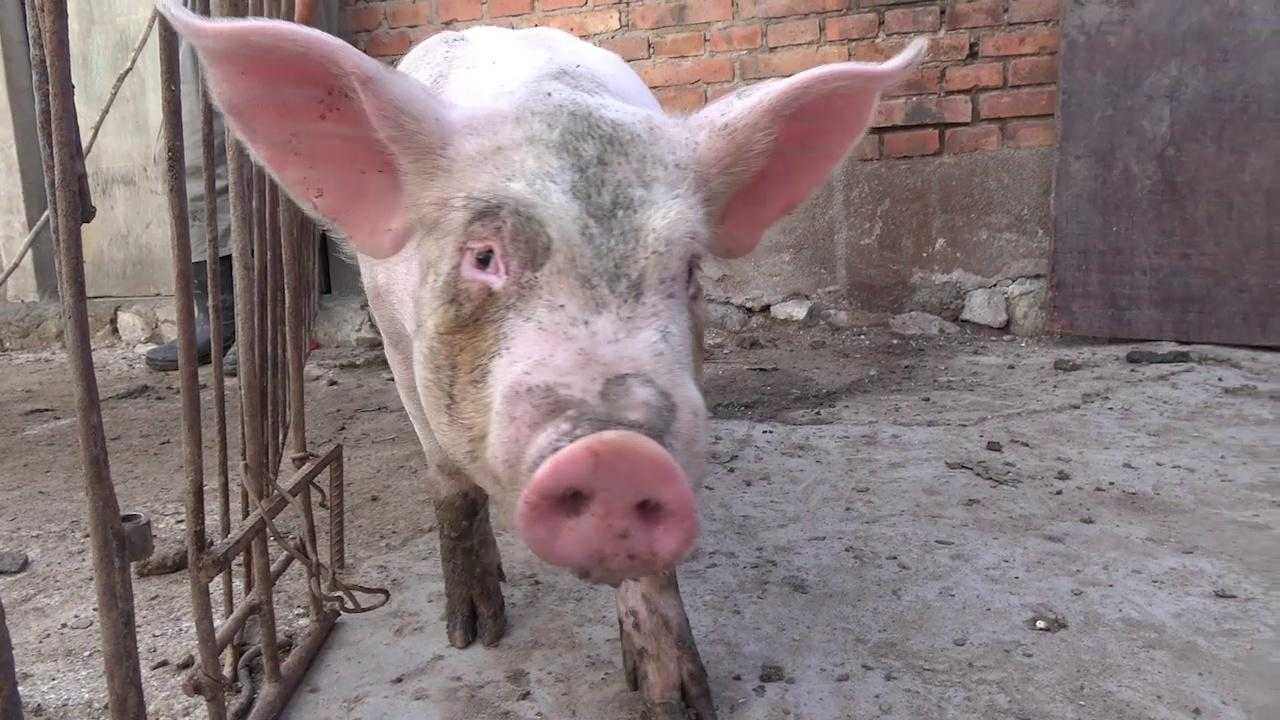Face: (150, 0, 934, 592)
